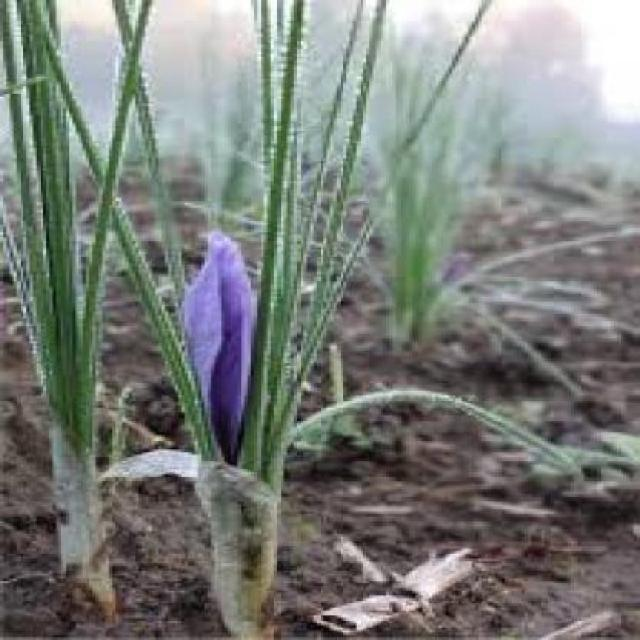saffron open: (183, 233, 257, 461)
